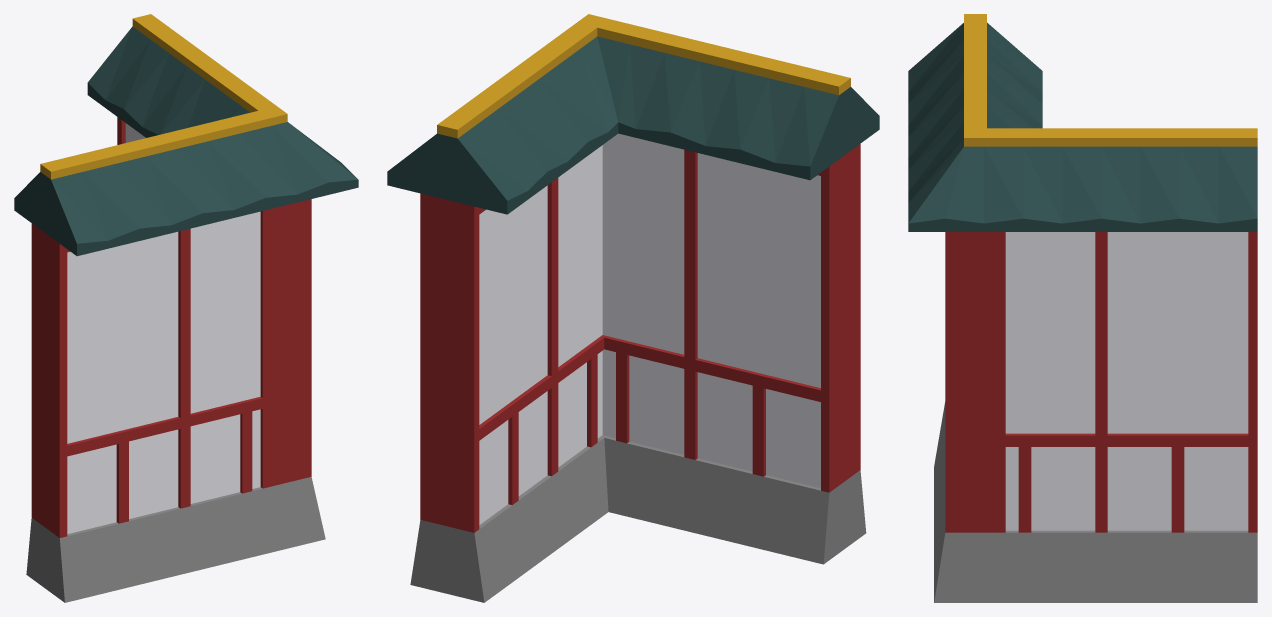
The model's file is Asian_Prop_Building_Fence_Wall_Framed_Corner_04.FBX.
3 views of the same model, side by side, from view 1: azimuth 30°, elevation 25°; view 2: azimuth 150°, elevation 25°; view 3: azimuth 270°, elevation 25° (orthographic). The views are drawn at different scales.
Parts seen in each view (by area): view 1: Asian_Prop_Building_Fence_Wall_Framed_Corner_04; view 2: Asian_Prop_Building_Fence_Wall_Framed_Corner_04; view 3: Asian_Prop_Building_Fence_Wall_Framed_Corner_04.
Part boxes in pixels (x1,y1,x2,y2): Asian_Prop_Building_Fence_Wall_Framed_Corner_04: (14,14,358,602); Asian_Prop_Building_Fence_Wall_Framed_Corner_04: (387,14,879,602); Asian_Prop_Building_Fence_Wall_Framed_Corner_04: (908,14,1257,602).
Bounding box in the file's own units: 2890 × 4128 × 2890.
